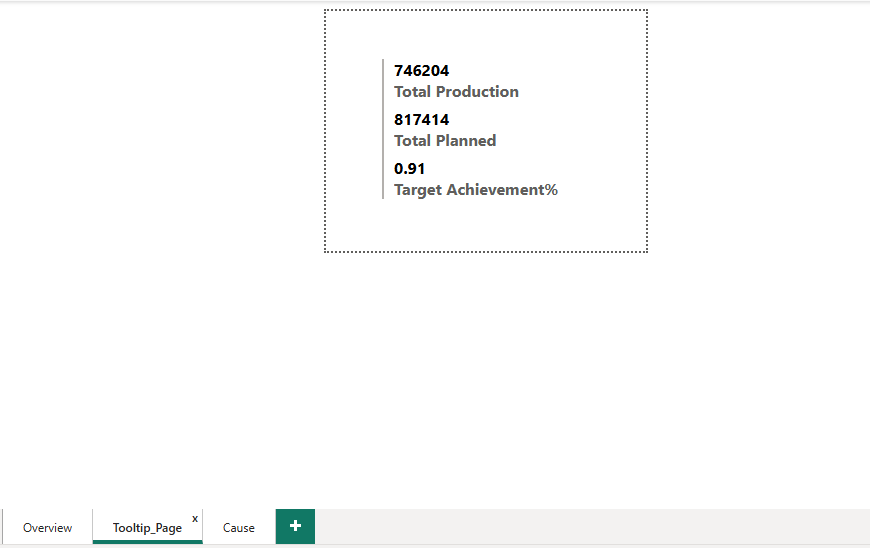

This screenshot's page, from the dashboard's own definition file:
{"tool":"powerbi","page":{"name":"Tooltip_Page","canvas":[320,240],"ordinal":1},"visuals":[{"type":"multiRowCard","fields":{"Values":["PowerBi_Cleaned.Total Production","PowerBi_Cleaned.Total Planned","PowerBi_Cleaned.Target Achievement%"]},"box":[51,43,218,153],"z":0}]}

Visuals, with their boxes on the page's 320x240 design canvas (x1, y1, x2, y2). These are canvas units, not pixel positions in the 870x548 screenshot, which may show the page scaled, cropped or inside an application window:
multiRowCard - PowerBi_Cleaned.Total Production x PowerBi_Cleaned.Total Planned: 51:43:269:196
